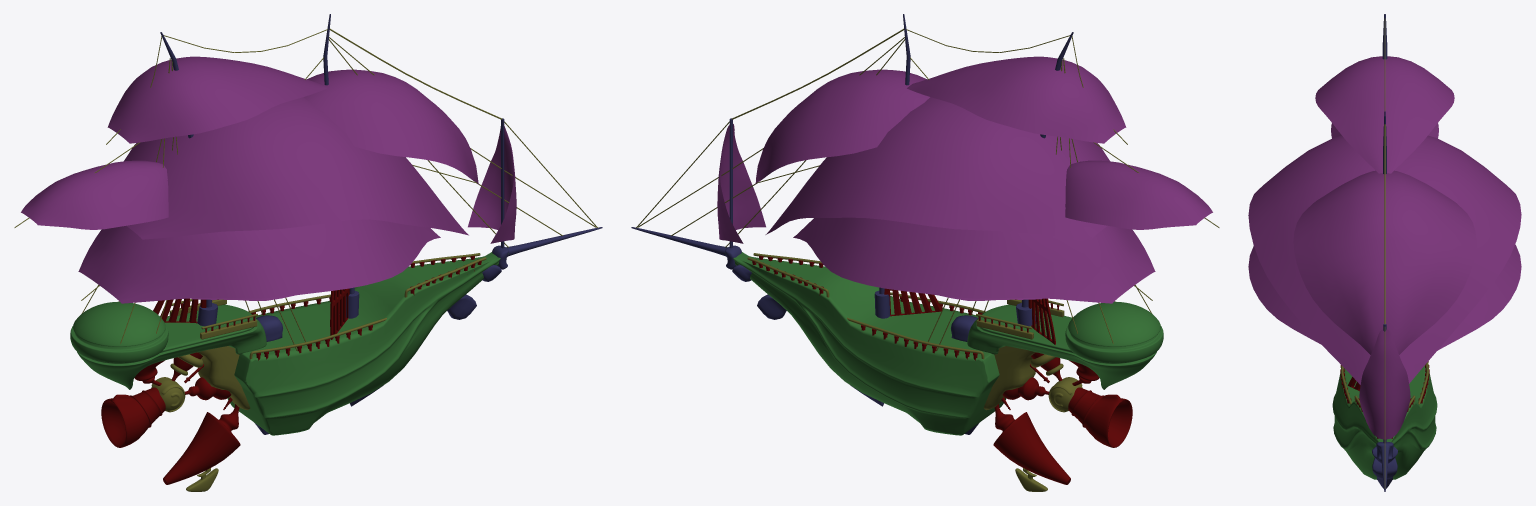
File: ShipShip.fbx
The picture shows the model from 3 angles, left to right: view 1: azimuth 30°, elevation 25°; view 2: azimuth 150°, elevation 25°; view 3: azimuth 270°, elevation 25°; orthographic projection. The views are drawn at different scales.
Visible parts, largest first — view 1: polySurface2, Body, TailBody, TailMin, polySurface1, Rope, zhuzi_Support, TailSup, weigan, Sail_Support, zhuzi, Pin (+1 smaller); view 2: polySurface2, Body, TailBody, TailMin, polySurface1, Rope, zhuzi_Support, TailSup, weigan, Sail_Support, zhuzi, Pin (+1 smaller); view 3: polySurface2, Body, polySurface1, Rope, weigan, Pin, BotFront, zhuzi_Support.
Boxes of the visible parts, left/top/right/bottom form: polySurface2: left=21, top=56, right=478, bottom=303; Body: left=227, top=252, right=508, bottom=435; TailBody: left=70, top=301, right=266, bottom=389; TailMin: left=101, top=352, right=240, bottom=484; polySurface1: left=468, top=125, right=516, bottom=243; Rope: left=14, top=28, right=597, bottom=351; zhuzi_Support: left=169, top=253, right=486, bottom=359; TailSup: left=197, top=346, right=250, bottom=410; weigan: left=160, top=14, right=504, bottom=326; Sail_Support: left=153, top=288, right=349, bottom=339; zhuzi: left=181, top=255, right=481, bottom=360; Pin: left=492, top=227, right=602, bottom=269; polySurface2: left=755, top=56, right=1212, bottom=303; Body: left=725, top=252, right=1006, bottom=435; TailBody: left=967, top=301, right=1163, bottom=389; TailMin: left=993, top=352, right=1132, bottom=484; polySurface1: left=717, top=124, right=765, bottom=243; Rope: left=636, top=28, right=1219, bottom=351; zhuzi_Support: left=747, top=253, right=1064, bottom=359; TailSup: left=983, top=346, right=1036, bottom=410; weigan: left=729, top=14, right=1073, bottom=326; Sail_Support: left=884, top=288, right=1055, bottom=344; zhuzi: left=752, top=255, right=1059, bottom=360; Pin: left=631, top=227, right=741, bottom=269; polySurface2: left=1248, top=56, right=1521, bottom=384; Body: left=1332, top=365, right=1437, bottom=479; polySurface1: left=1359, top=329, right=1410, bottom=439; Rope: left=1343, top=18, right=1426, bottom=488; weigan: left=1382, top=14, right=1387, bottom=443; Pin: left=1376, top=442, right=1393, bottom=491; BotFront: left=1372, top=458, right=1397, bottom=488; zhuzi_Support: left=1341, top=362, right=1428, bottom=407.
Bounding box in the file's own units: 104 × 79.65 × 45.6.
